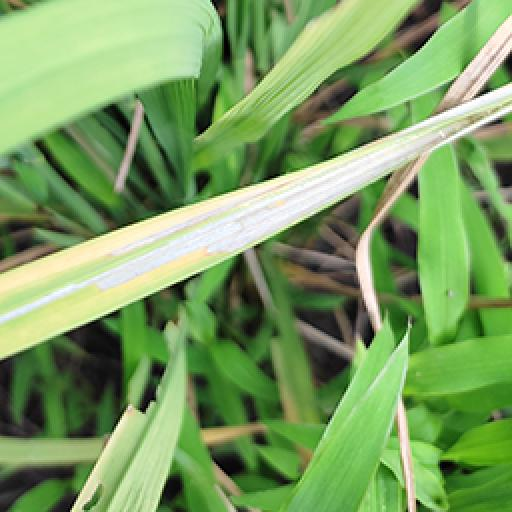Sheath Blight: (2, 104, 490, 360), (438, 14, 512, 102), (386, 396, 438, 508)
